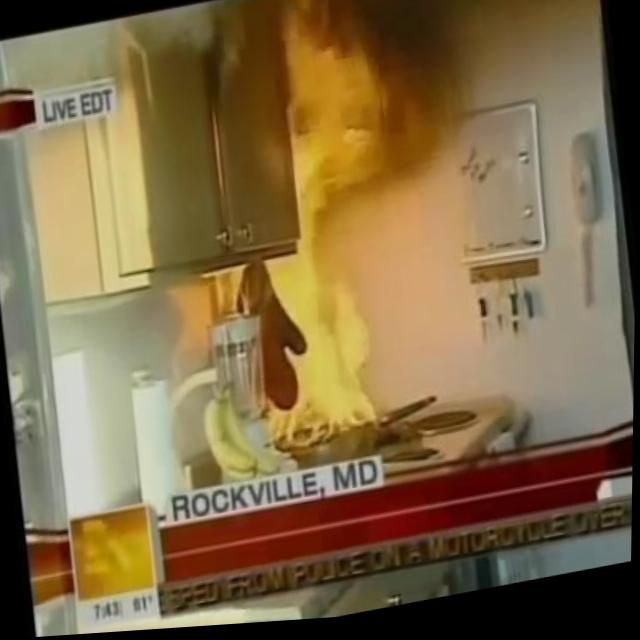fire: (226, 141, 414, 455)
